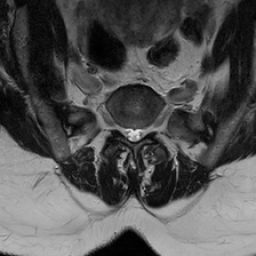CCS_severe_stenosis: (131, 122, 138, 147)
LFS_normal: (145, 120, 153, 138)
LLS_normal: (138, 122, 145, 142)
RFS_stenosis: (117, 121, 124, 142)
RLS_normal: (124, 122, 131, 142)
